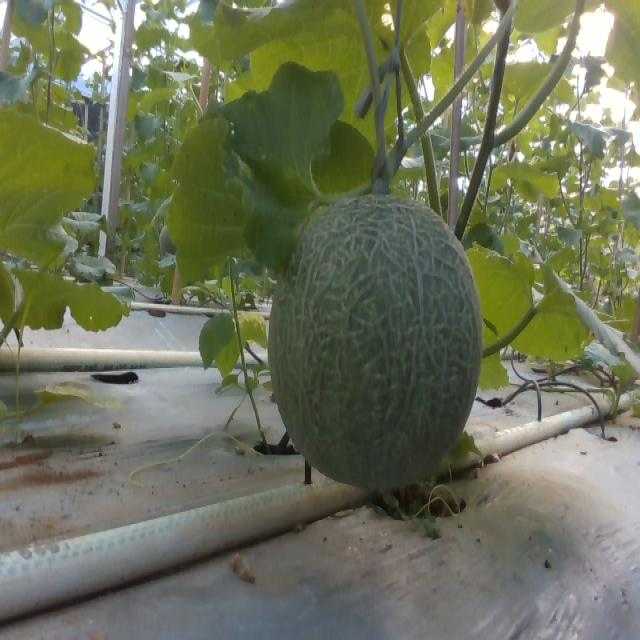melon: (270, 195, 484, 490)
